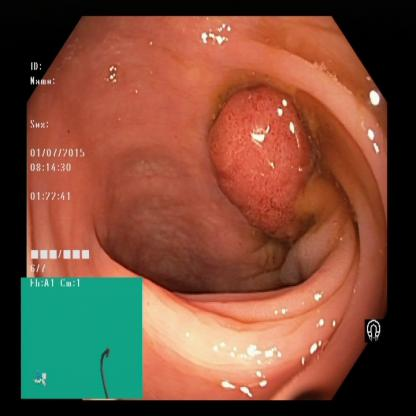Labels: (20, 276, 144, 398), (27, 59, 95, 278), (364, 304, 386, 353)
Polyps: (212, 75, 313, 232)
